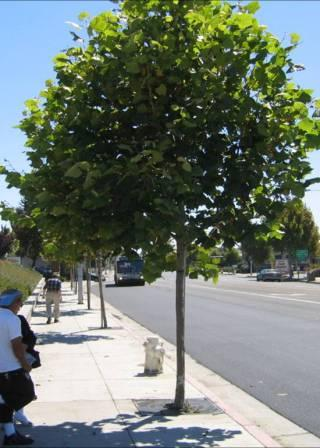tree: (2, 1, 320, 410)
